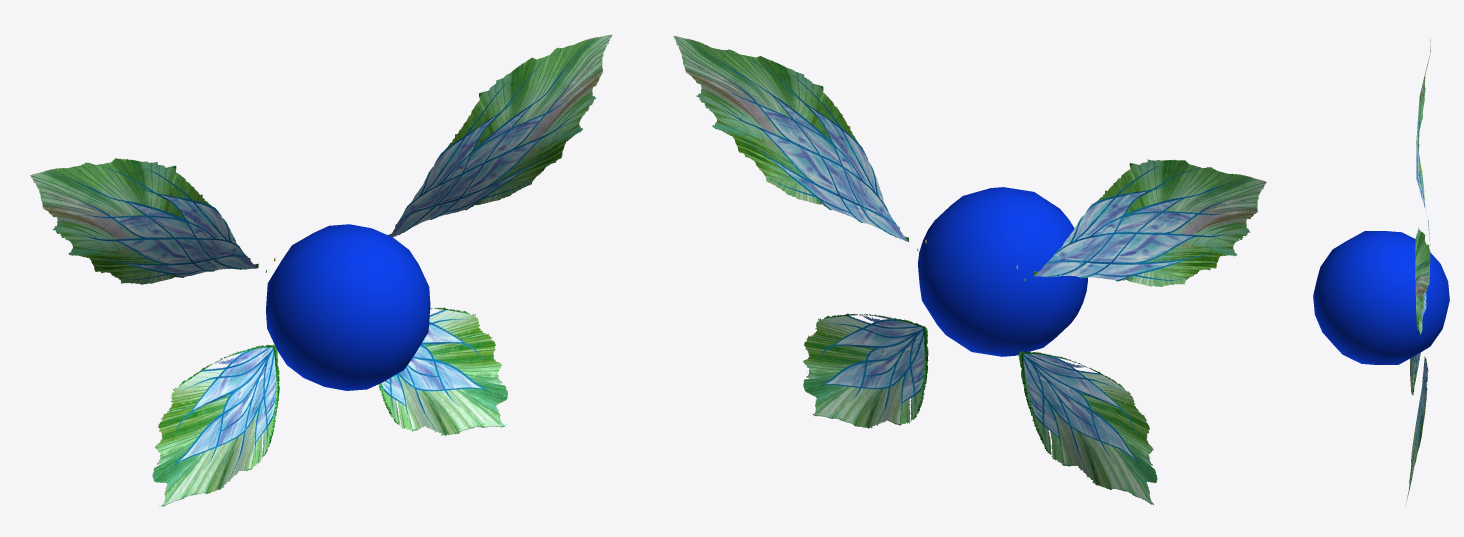
The model's file is hada_muerte_buena.fbx.
3 renders of one model, left to right at view 1: azimuth 30°, elevation 25°; view 2: azimuth 150°, elevation 25°; view 3: azimuth 270°, elevation 25°, orthographic. The views are drawn at different scales.
Visible parts, largest first — view 1: hada; view 2: hada; view 3: hada.
Part boxes in pixels (left/top/right/bottom): hada: left=30, top=34, right=612, bottom=506; hada: left=673, top=36, right=1266, bottom=505; hada: left=1313, top=38, right=1449, bottom=504.
Size of the model in its own units: 35.71 by 8.42 by 21.43.
3 materials, 2 textured.
